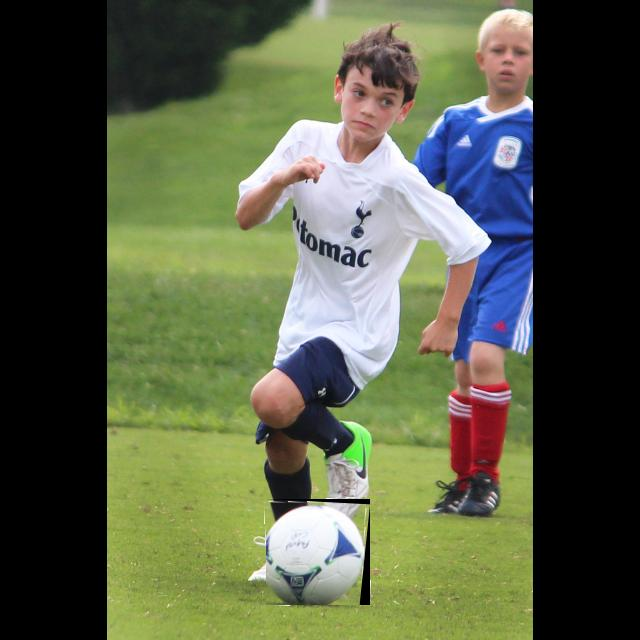Football: (266, 499, 370, 605)
